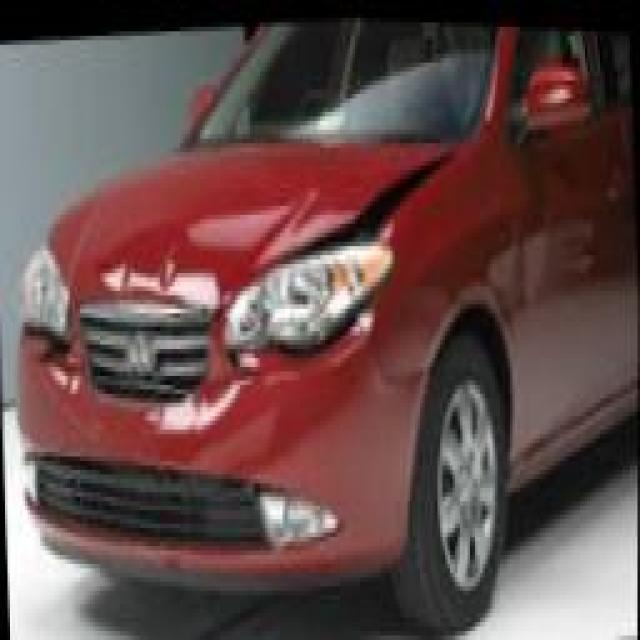Light: (222, 233, 380, 374), (10, 242, 70, 352)
